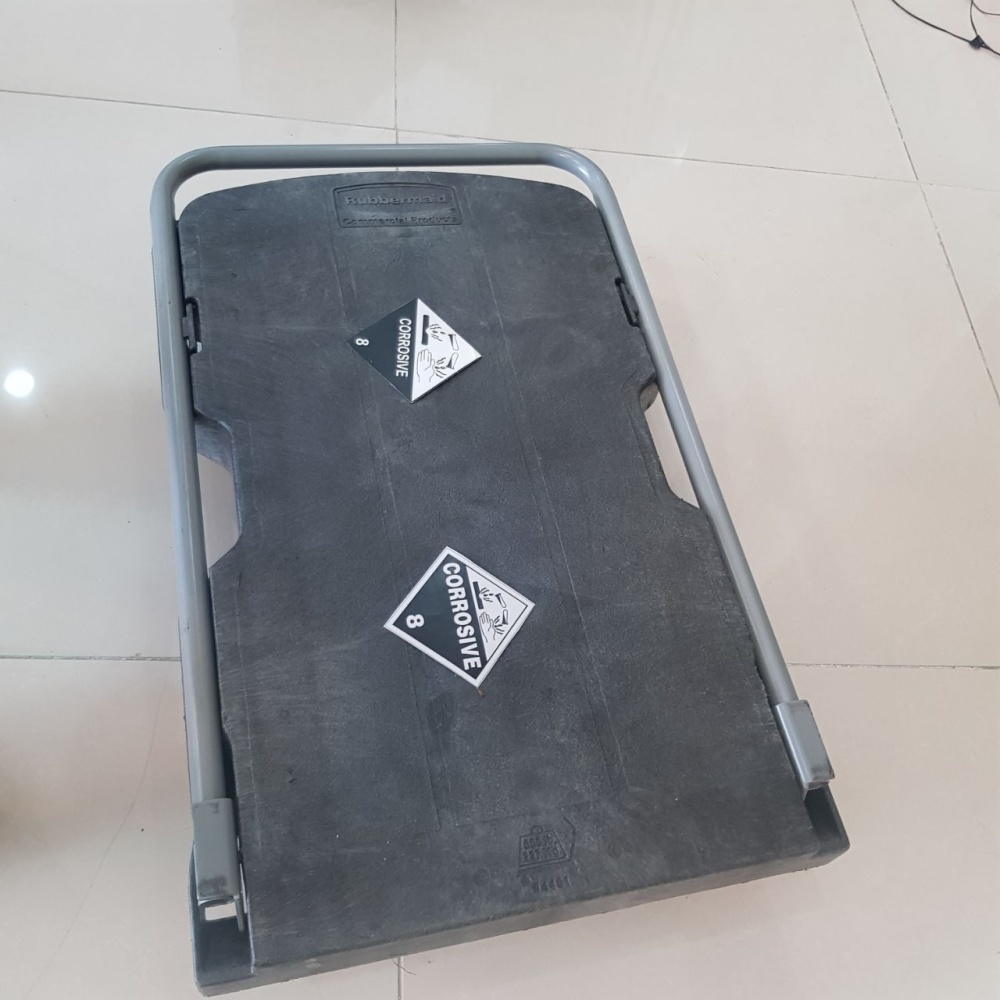Corrosive: (381, 547, 536, 689), (345, 296, 484, 404)
